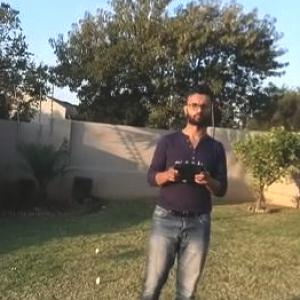follow: (134, 79, 234, 299)
